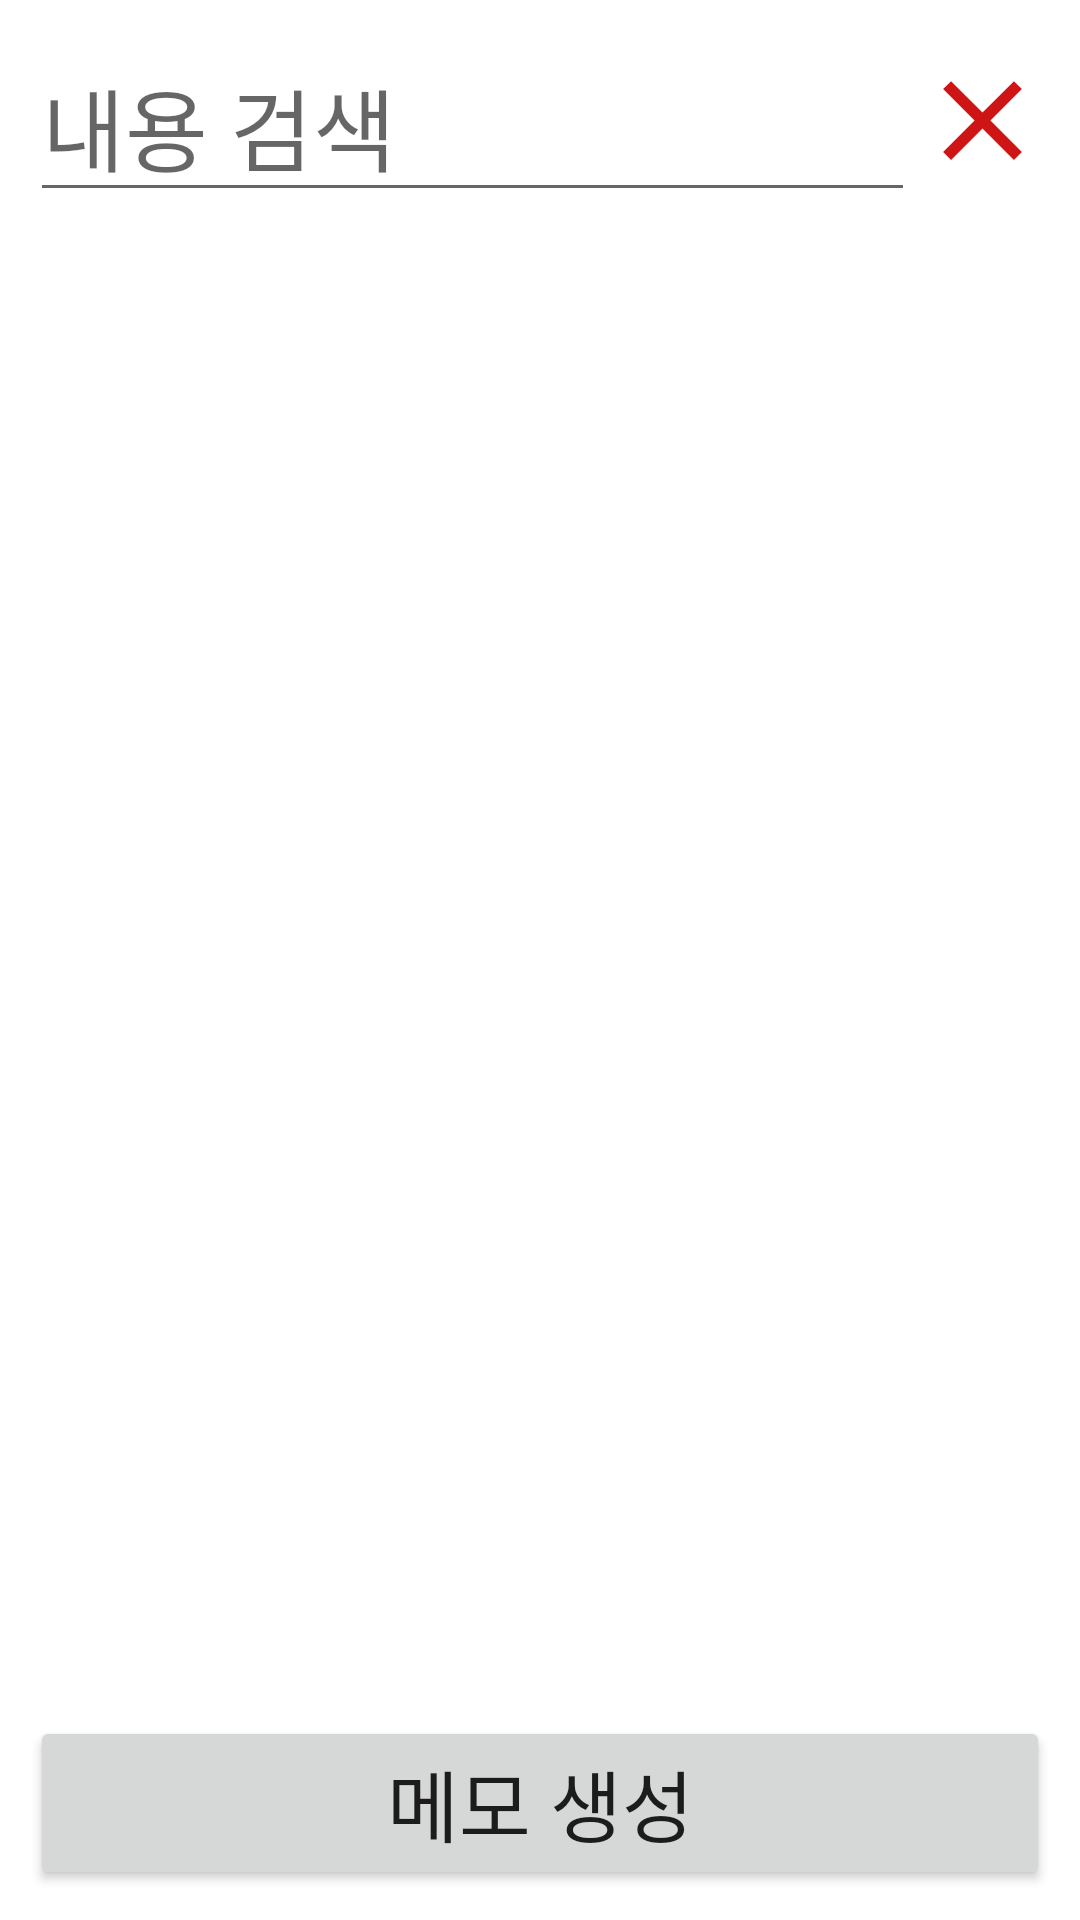

Locate icon controls on the screen. Image size 1080px x 1920px, boxes as bbox(x1, y1, x2, y2).
close: bbox(943, 81, 1022, 160)
